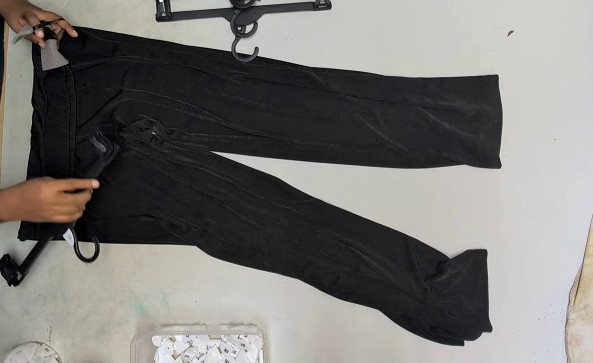TROUSER: (151, 7, 442, 358)
